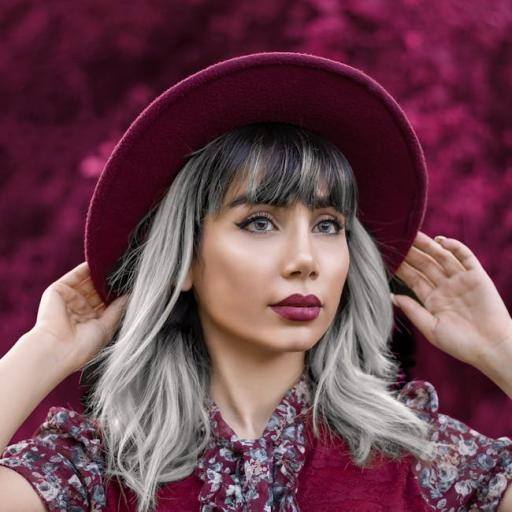lipstick: (271, 294, 321, 321)
